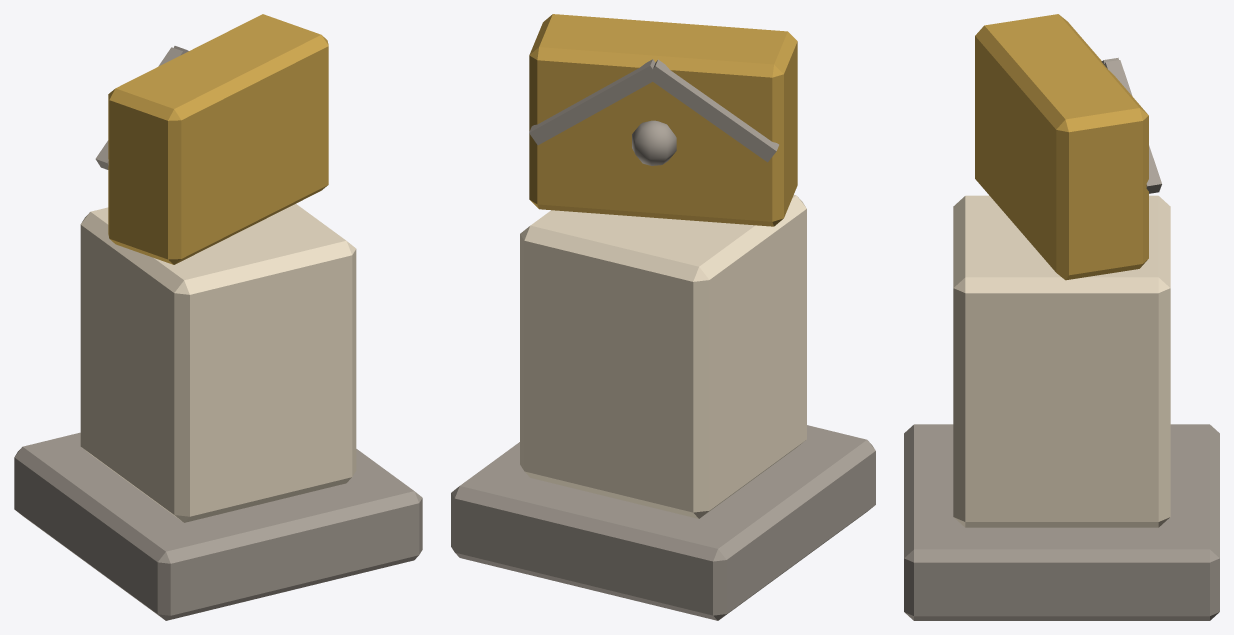
File: statue_small.glb
3 views of the same model, side by side, from view 1: azimuth 30°, elevation 25°; view 2: azimuth 150°, elevation 25°; view 3: azimuth 270°, elevation 25° (orthographic). The views are drawn at different scales.
Visible parts, largest first — view 1: statue_small; view 2: statue_small; view 3: statue_small.
Boxes of the visible parts, left/top/right/bottom form: statue_small: left=14, top=14, right=422, bottom=620; statue_small: left=451, top=14, right=875, bottom=620; statue_small: left=904, top=14, right=1219, bottom=620.
Bounding box in the file's own units: 1.6 × 2.75 × 1.6.
